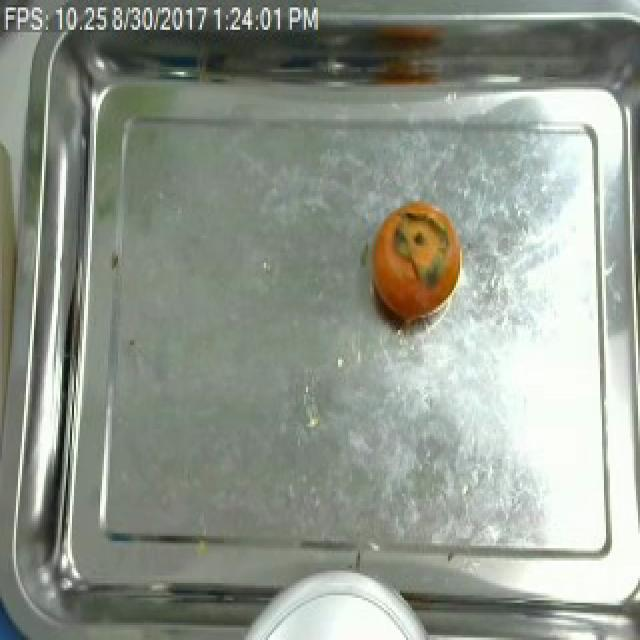Fruit: (366, 196, 466, 322)
